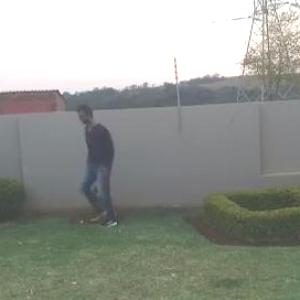follow: (86, 106, 120, 219)
